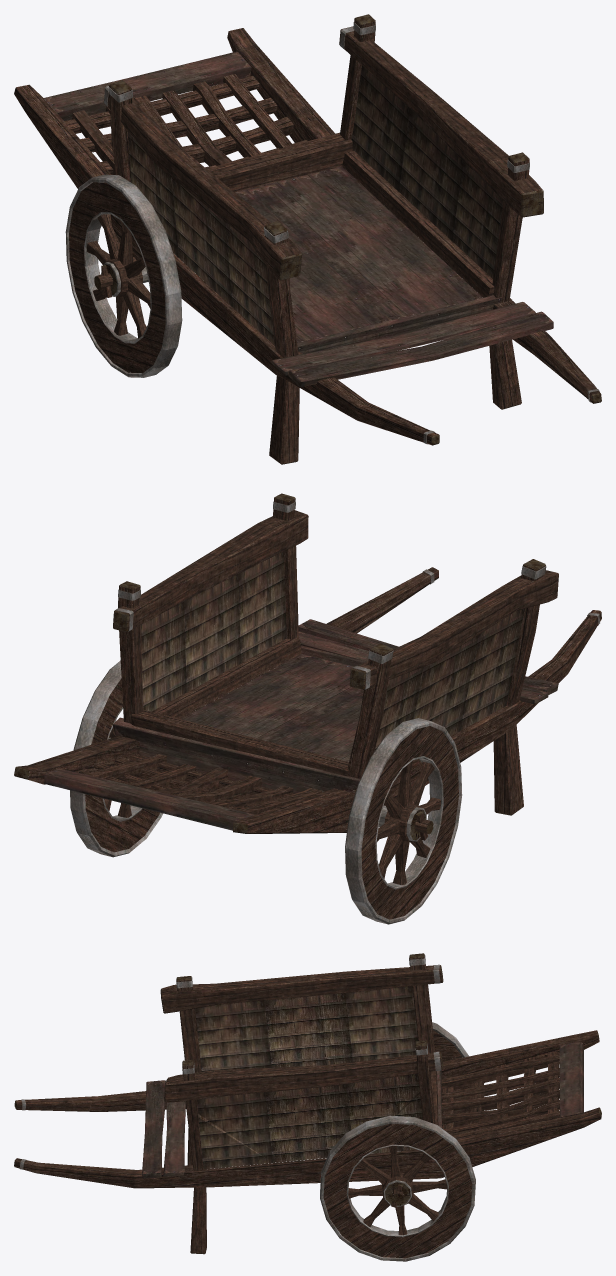
File: TW2_9_CAR_01_1-transformed.glb
3 views of the same model, one above another, from view 1: azimuth 30°, elevation 25°; view 2: azimuth 150°, elevation 25°; view 3: azimuth 270°, elevation 25° (orthographic). The views are drawn at different scales.
Visible parts, largest first — view 1: default; view 2: default; view 3: default.
Part boxes in pixels (x1=…): default: x1=14, y1=14, x2=601, y2=464; default: x1=14, y1=493, x2=601, y2=924; default: x1=14, y1=953, x2=601, y2=1261.
Size of the model in its own units: 1.69 by 1.37 by 3.47.
Materials: 4 (4 with a texture image).
